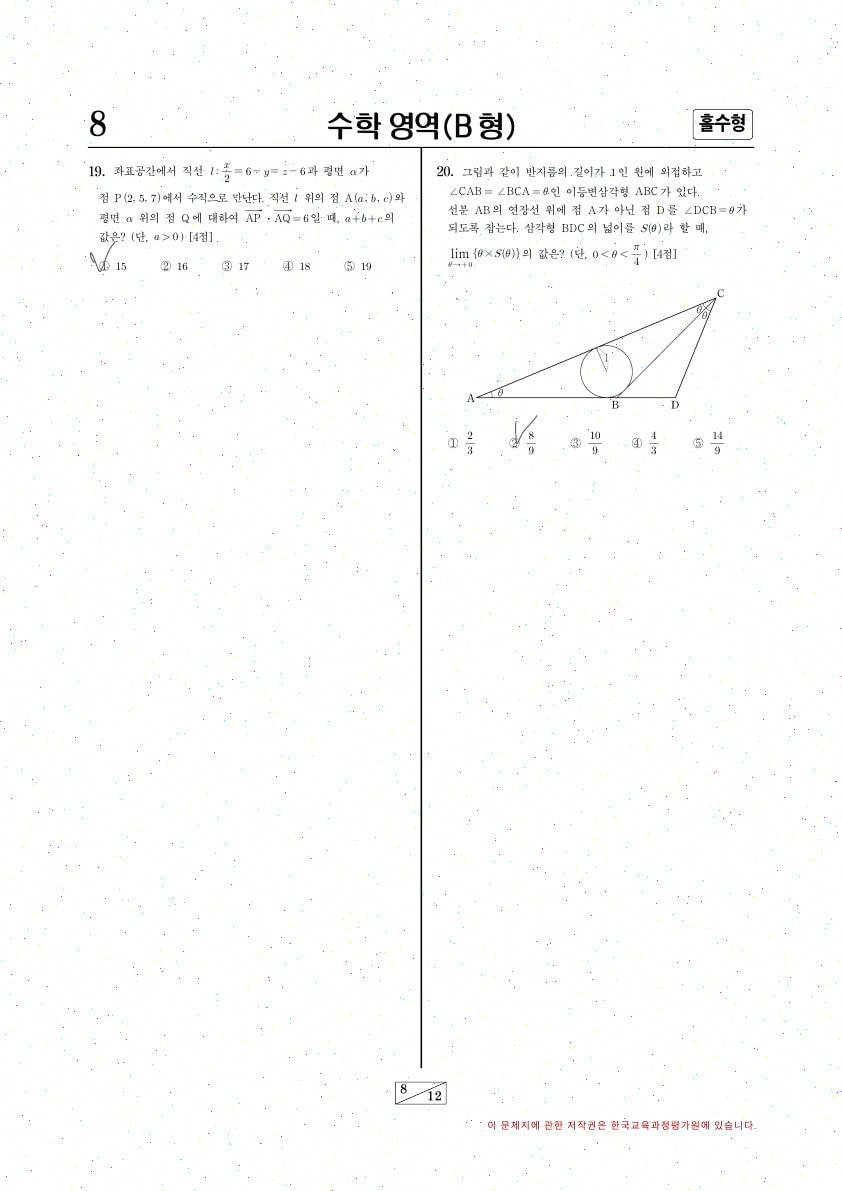question: (425, 152, 757, 475), (78, 152, 417, 289)
